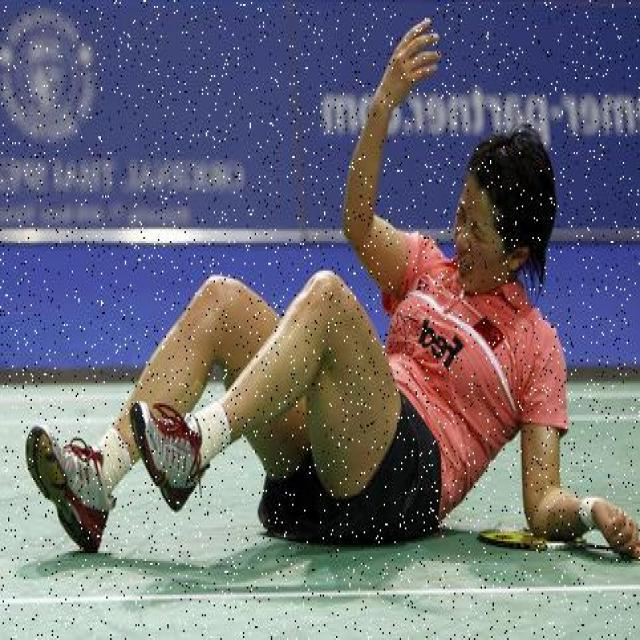fall: (54, 61, 578, 551)
